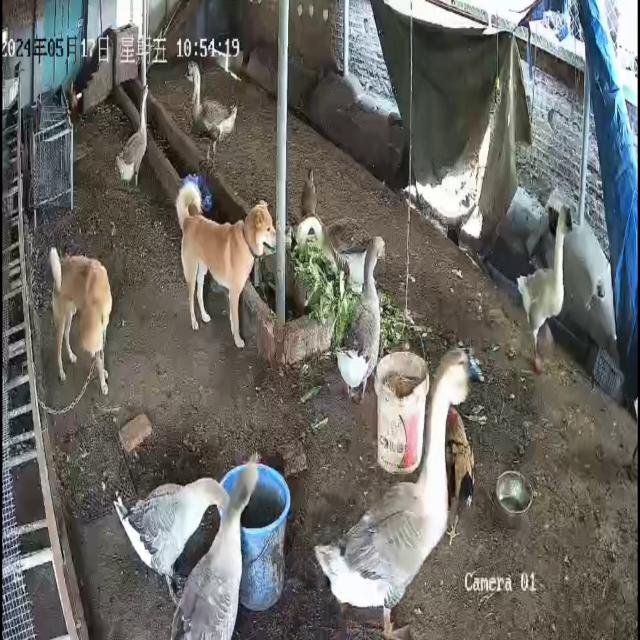dog: (176, 182, 277, 351), (46, 246, 114, 397)
